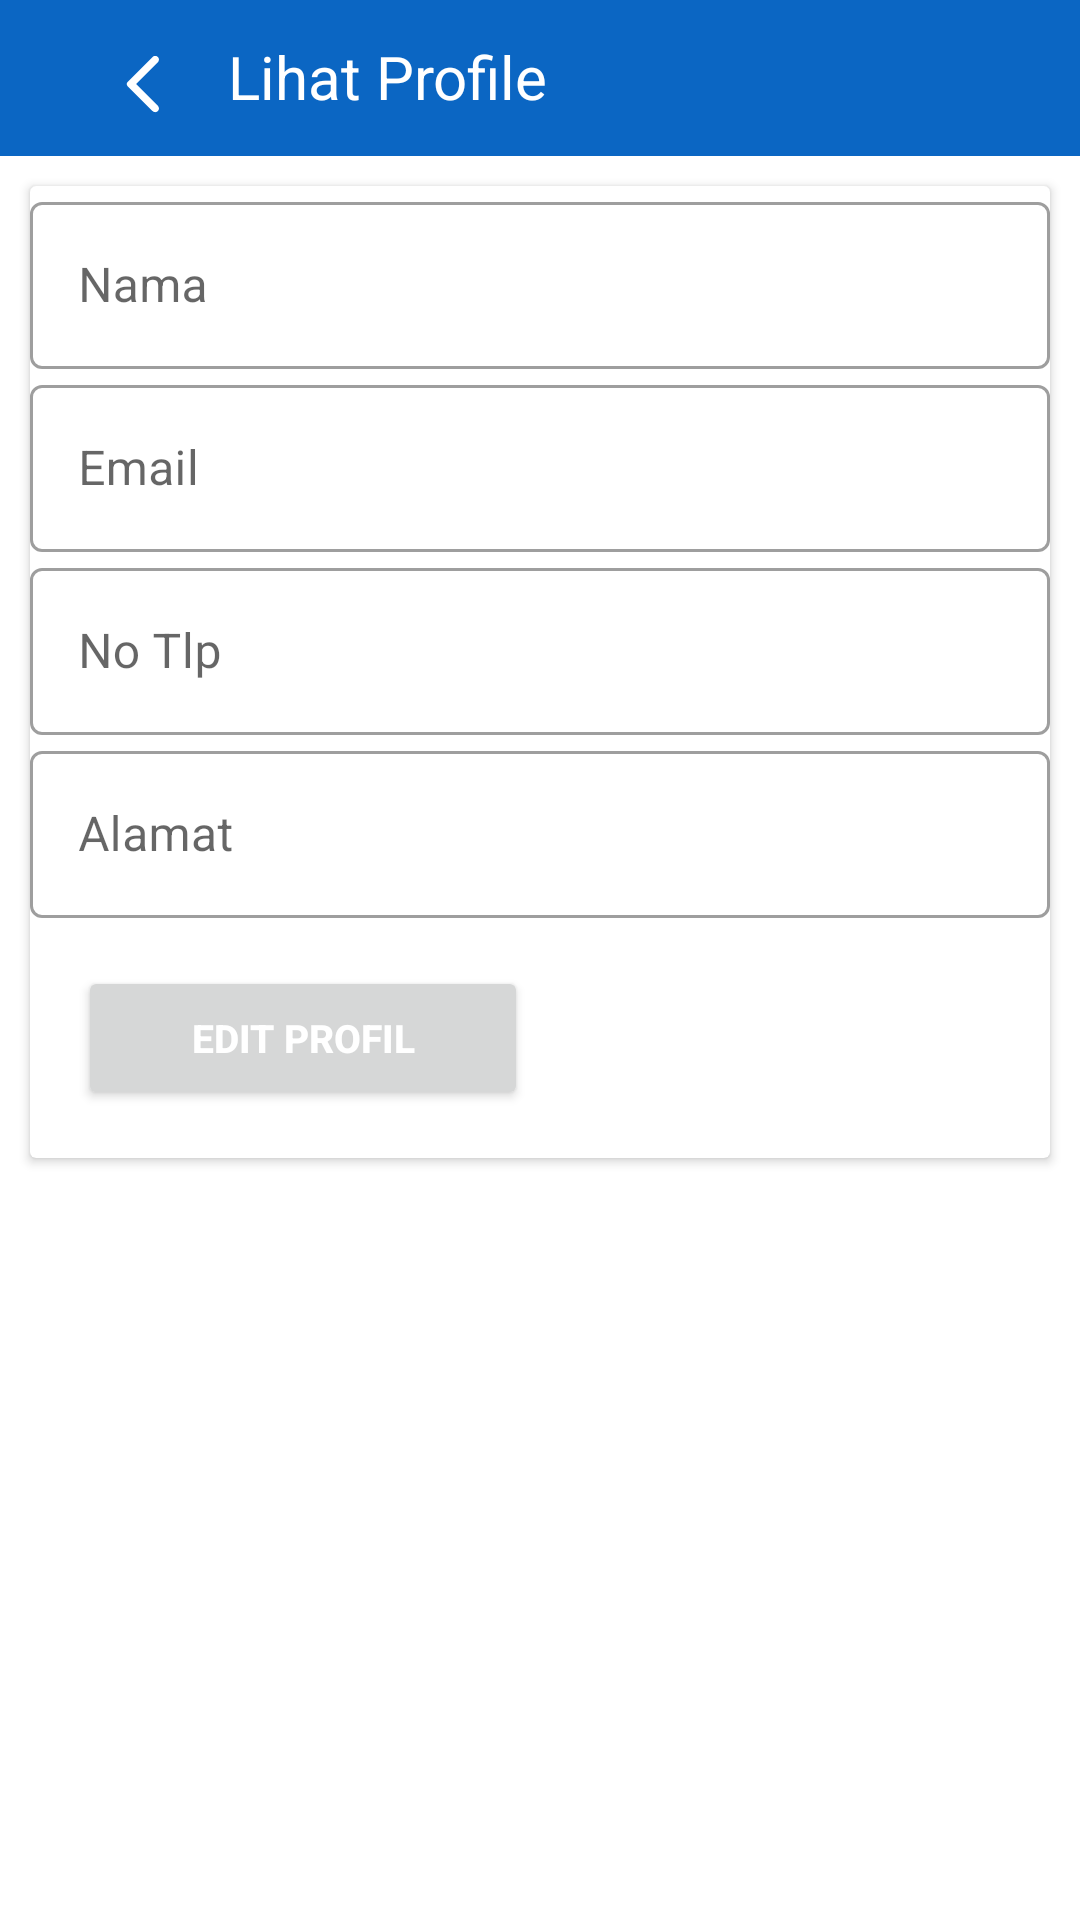

Locate icon controls on the screen. Image size 1080px×1920px, boxes as (x1, y1, x2, y2).
arrow: (126, 56, 159, 113)
